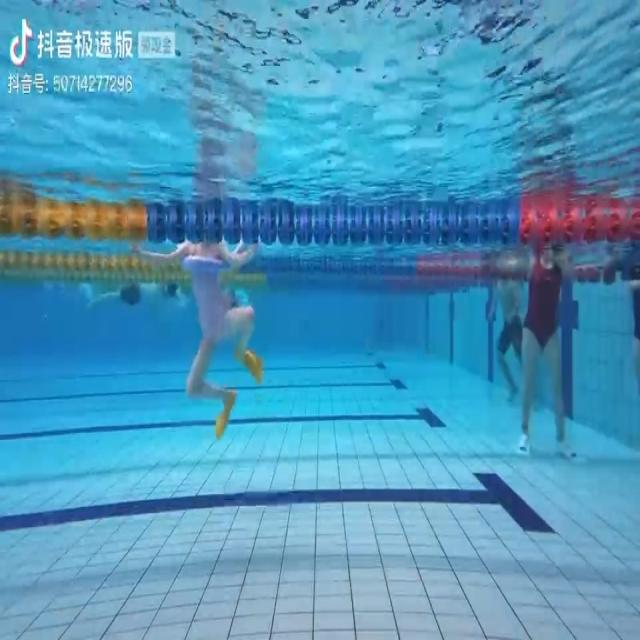Swimming: (131, 239, 275, 437), (89, 279, 180, 310)
